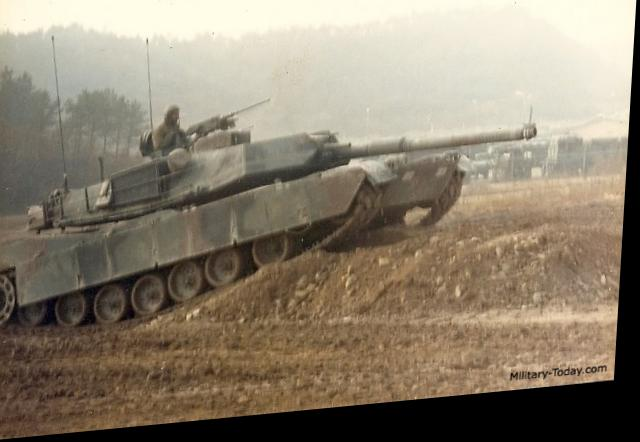other: (122, 74, 191, 170)
tank: (0, 91, 396, 334)
